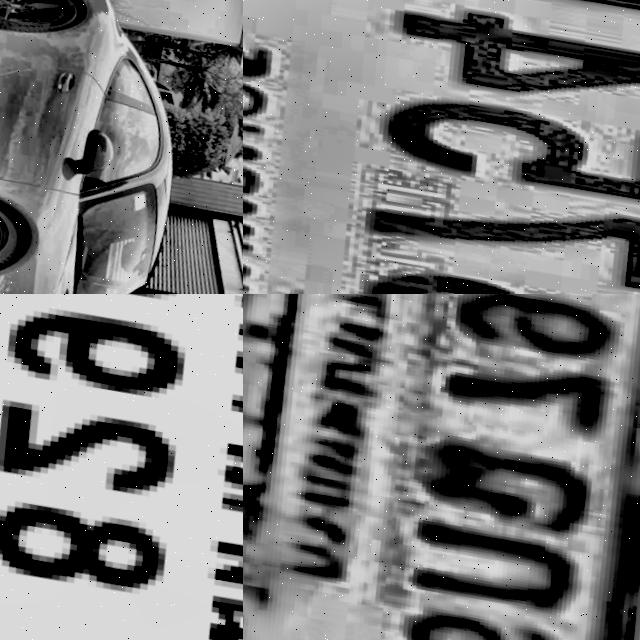license-plate: (243, 294, 640, 640), (243, 0, 640, 294), (0, 294, 243, 640)
